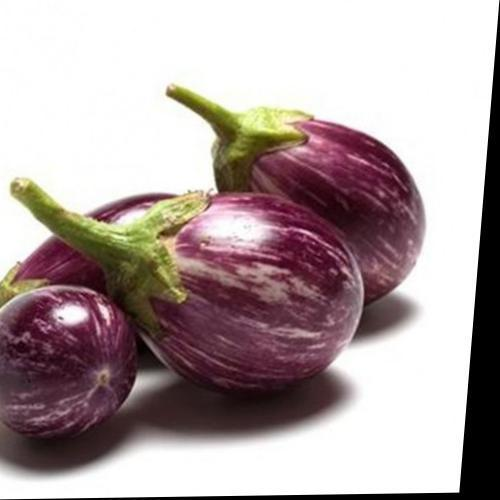eggplant: (19, 169, 394, 412), (0, 192, 360, 432), (167, 64, 446, 295), (0, 281, 157, 455)
